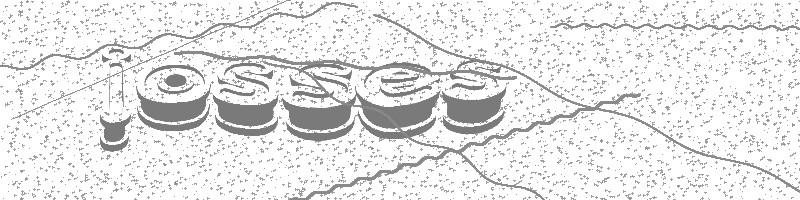e: (356, 59, 439, 142)
i: (97, 43, 135, 153)
o: (135, 59, 210, 133)
s: (281, 60, 357, 142), (212, 60, 280, 137), (442, 59, 510, 133)
